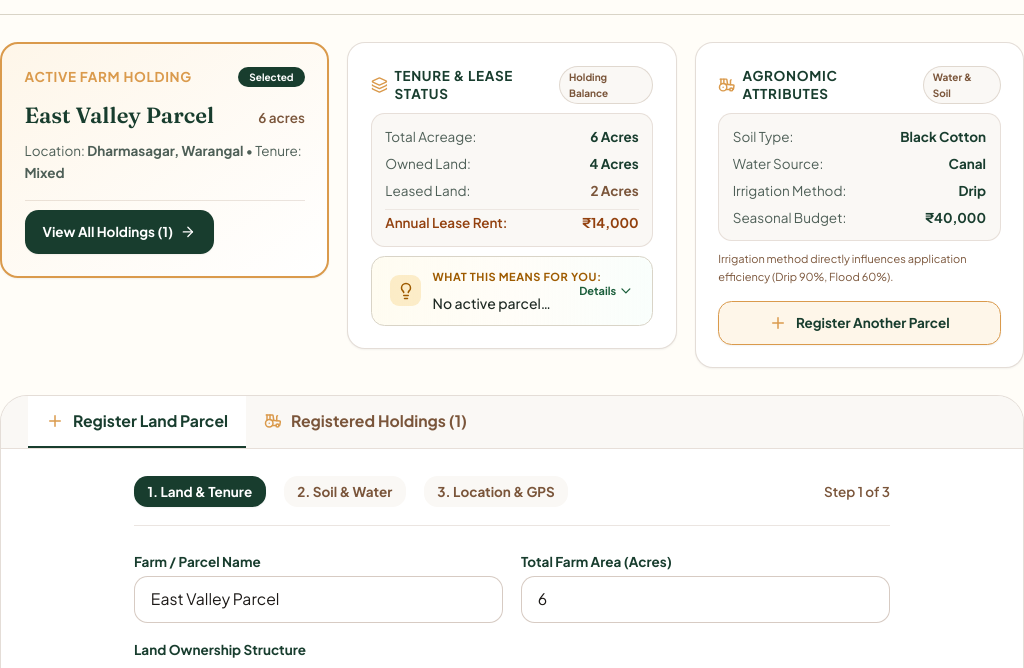
Test: Phase 5: State & District Cascading Dropdowns with Verified Coordinates › renders Step 3 with State and District dropdowns and read-only coordinates with approximate label
// Directly click Step 3 tab in wizard
Click the button "3. Location & GPS" at (496, 492), box [424,476,568,507]
(page scrolled)
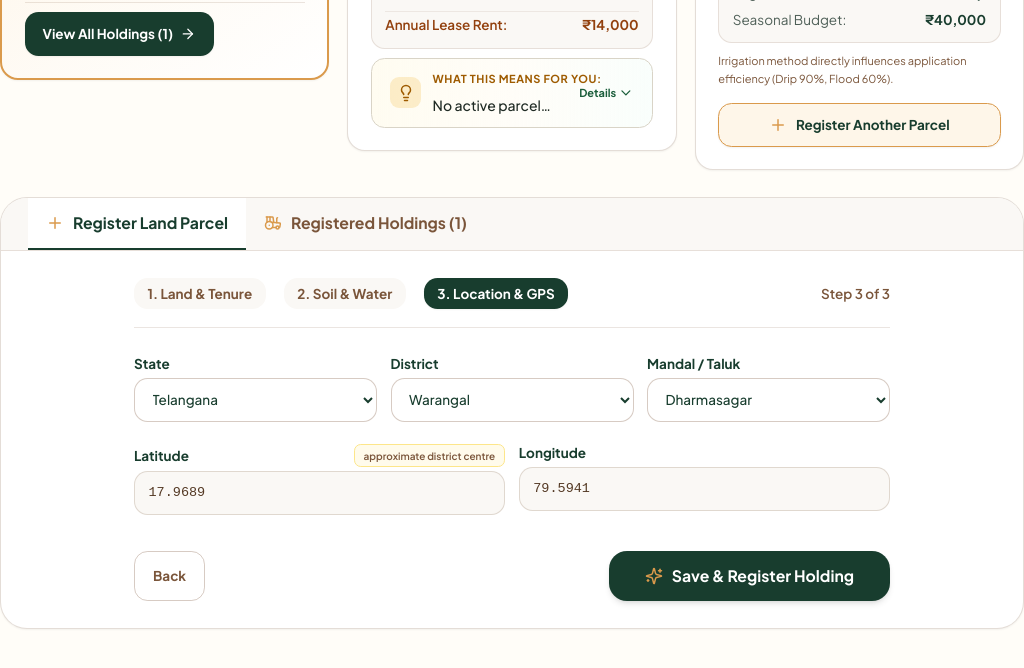
Result: the dropdown labelled "State" shows "Telangana" at [134,378,377,422]
Result: the dropdown labelled "District" shows "Warangal" at [390,378,634,422]
